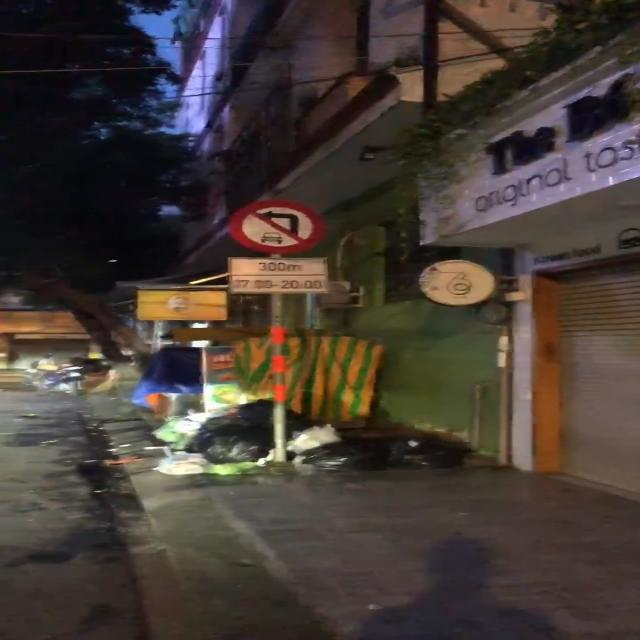Bien bao cam xe o to re trai: (228, 196, 324, 254)
